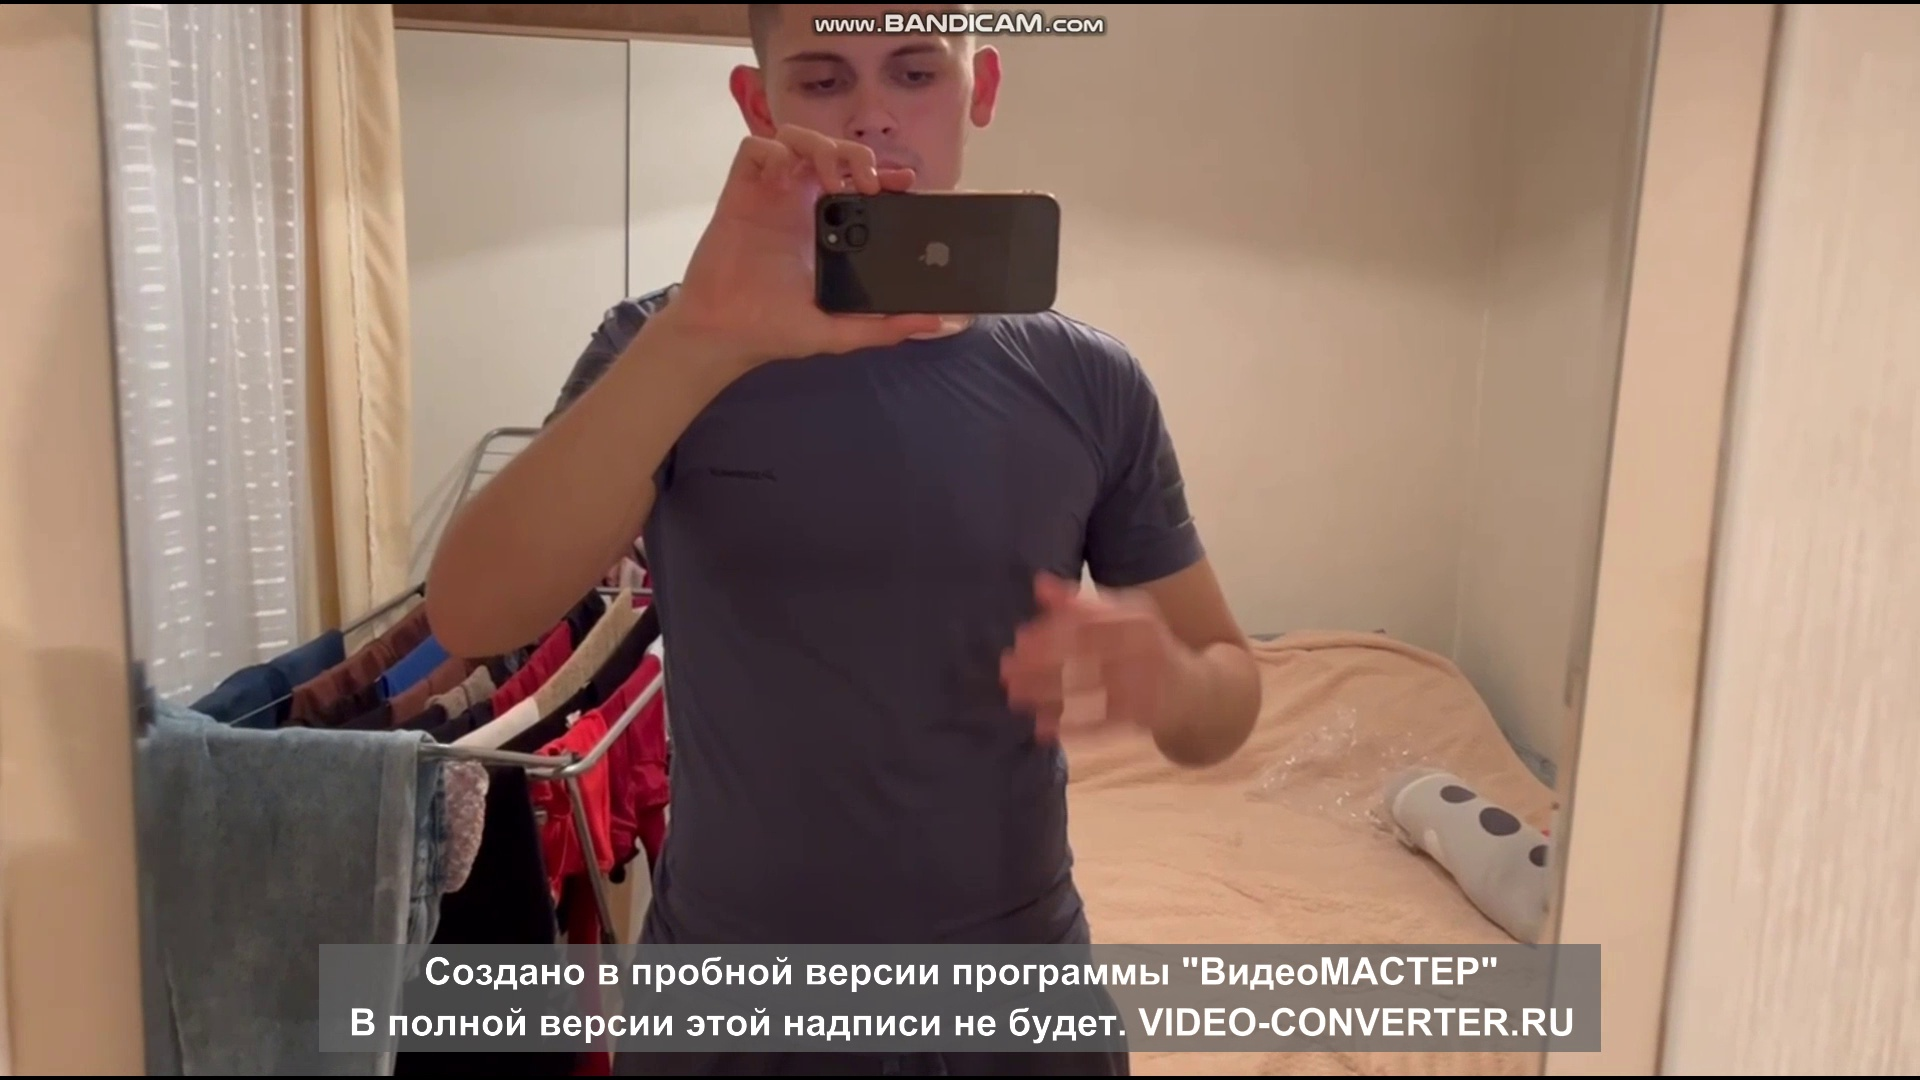Кисть: (997, 567, 1180, 740)
